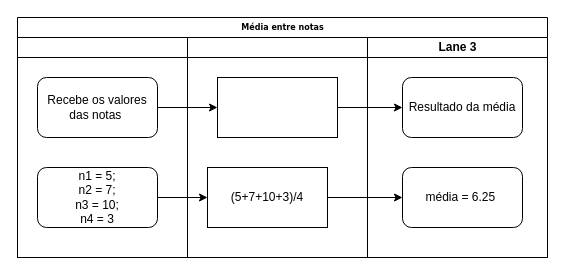
This 565x275 diagram has some shape labels left out. The shapes that lost their labels are listed below. From the top down, each one's box as (x1, y1, x2, y2) in pixels, then its label:
(216, 76, 338, 138): Realiza a média (soma de todas dividido por quantidade de notas)
(16, 36, 188, 258): Lane 1
(186, 36, 368, 258): Lane 2
